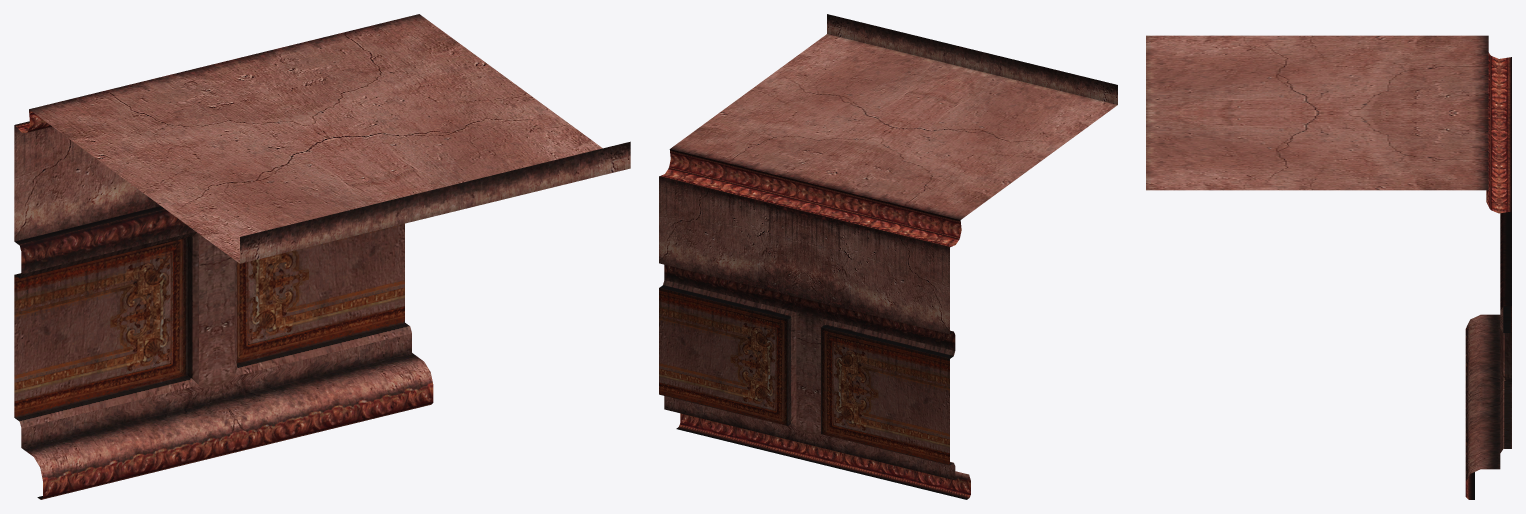
The model's file is concave02_short.dae.
The picture shows the model from 3 angles, left to right: view 1: azimuth 30°, elevation 25°; view 2: azimuth 150°, elevation 25°; view 3: azimuth 270°, elevation 25°; orthographic projection. The views are drawn at different scales.
Visible parts, largest first — view 1: concave_short; view 2: concave_short; view 3: concave_short.
Boxes of the visible parts, x1,y1,x2,y2 form: concave_short: (14, 14, 630, 499); concave_short: (659, 14, 1117, 499); concave_short: (1146, 35, 1511, 499).
Bounding box in the file's own units: 2 × 2 × 2.
1 material, 1 textured.
